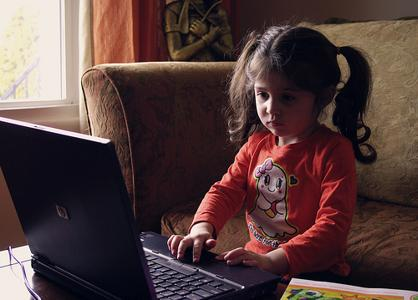person: (165, 23, 378, 287)
